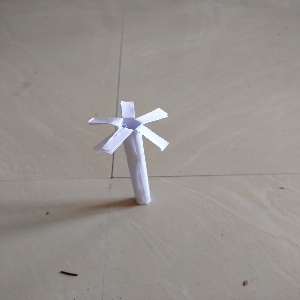weed: (83, 101, 174, 209)
